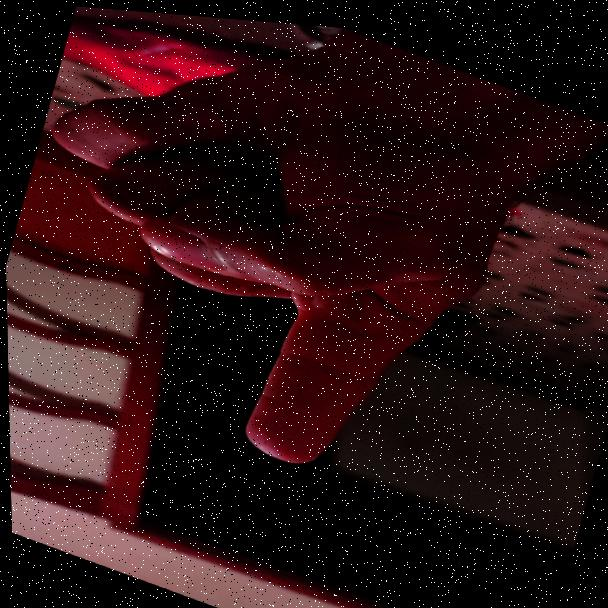one: (0, 0, 492, 508)
